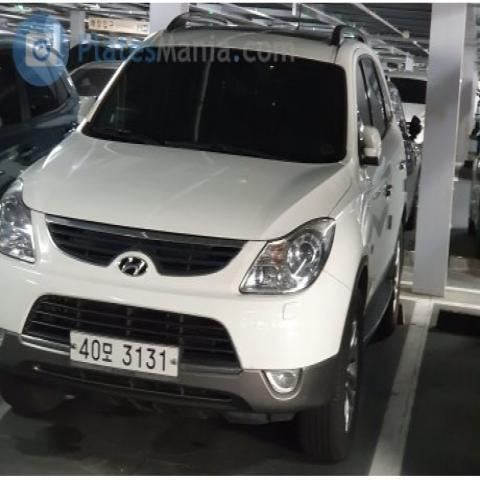LP: (60, 314, 183, 386)
